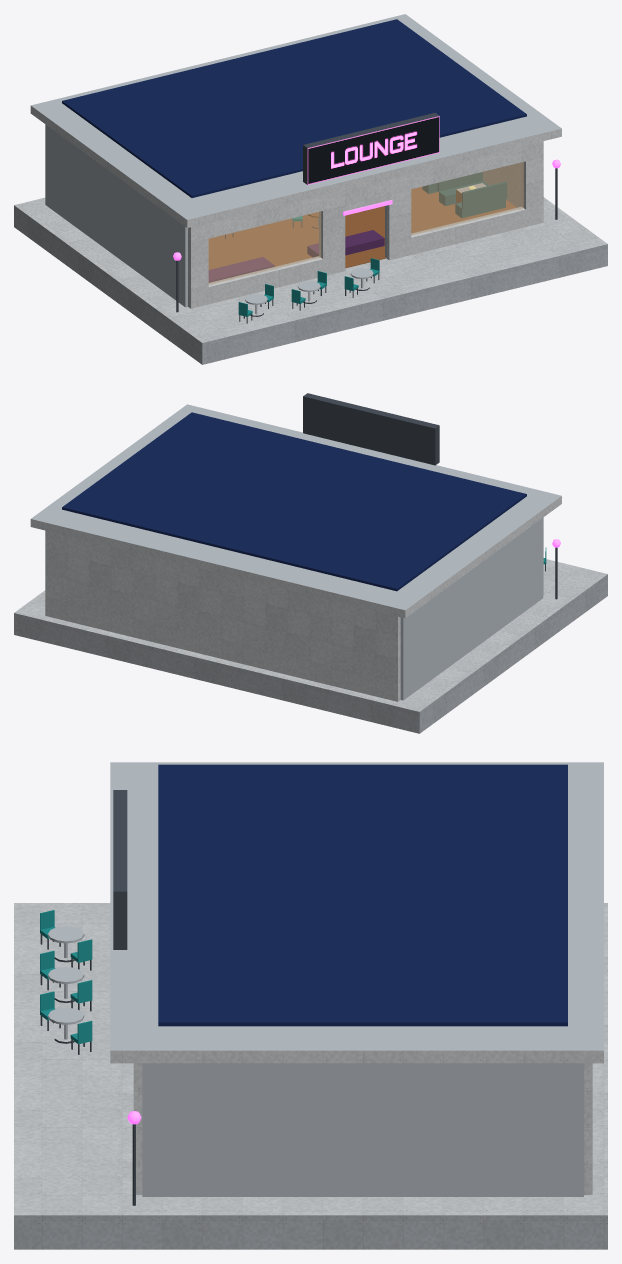
Rendered from skyline_lounge.glb.
3 renders of one model, top to bottom at view 1: azimuth 30°, elevation 25°; view 2: azimuth 150°, elevation 25°; view 3: azimuth 270°, elevation 25°, orthographic. The views are drawn at different scales.
Visible parts, largest first — view 1: skyline_lounge_LOD0; view 2: skyline_lounge_LOD0; view 3: skyline_lounge_LOD0.
Boxes of the visible parts, x1=… form: skyline_lounge_LOD0: x1=14, y1=14, x2=607, y2=364; skyline_lounge_LOD0: x1=14, y1=393, x2=607, y2=733; skyline_lounge_LOD0: x1=14, y1=762, x2=607, y2=1249.
Size of what is drawn, in the model's own units: 18.4 by 6.95 by 14.8.
Materials: 3 (2 with a texture image).
